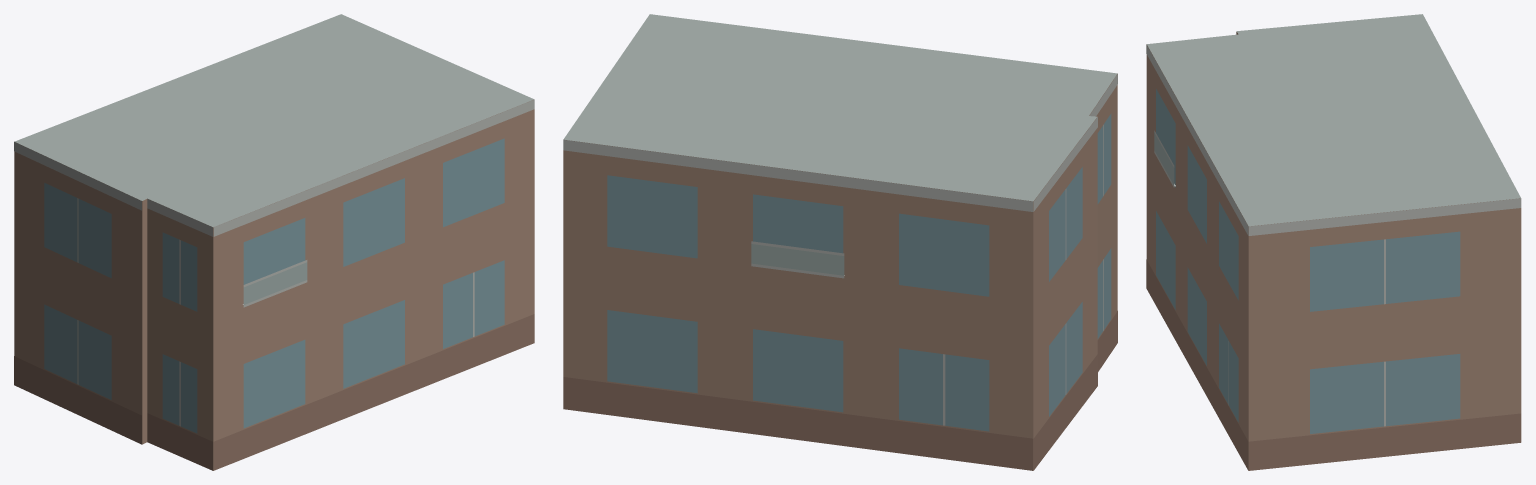
Rendered from survey-upis-32940705.glb.
3 renders of one model, left to right at view 1: azimuth 30°, elevation 25°; view 2: azimuth 150°, elevation 25°; view 3: azimuth 270°, elevation 25°, orthographic. The views are drawn at different scales.
Visible parts, largest first — view 1: survey-upis-32940705.tmp; view 2: survey-upis-32940705.tmp; view 3: survey-upis-32940705.tmp.
Boxes of the visible parts, left/top/right/bottom form: survey-upis-32940705.tmp: left=14, top=14, right=534, bottom=470; survey-upis-32940705.tmp: left=563, top=14, right=1117, bottom=470; survey-upis-32940705.tmp: left=1146, top=14, right=1521, bottom=470.
Bounding box in the file's own units: 11.37 × 6.1 × 8.48.
